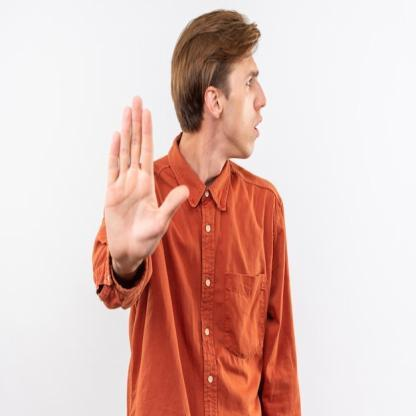stop: (104, 92, 189, 266)
